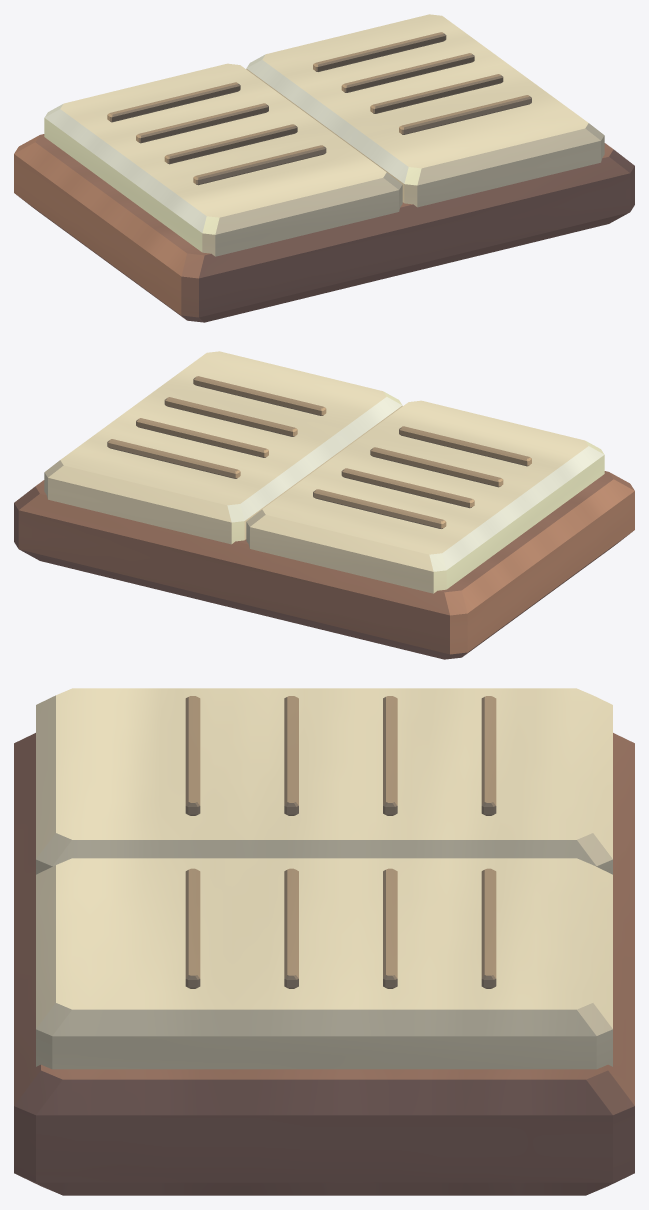
Rendered from resident_notebook.glb.
3 views of the same model, one above another, from view 1: azimuth 30°, elevation 25°; view 2: azimuth 150°, elevation 25°; view 3: azimuth 270°, elevation 25° (orthographic). The views are drawn at different scales.
Visible parts, largest first — view 1: Edda · Aufgeschlagenes Notizbuch; view 2: Edda · Aufgeschlagenes Notizbuch; view 3: Edda · Aufgeschlagenes Notizbuch.
Boxes of the visible parts, x1=… form: Edda · Aufgeschlagenes Notizbuch: x1=14, y1=14, x2=634, y2=322; Edda · Aufgeschlagenes Notizbuch: x1=14, y1=351, x2=634, y2=659; Edda · Aufgeschlagenes Notizbuch: x1=14, y1=688, x2=634, y2=1195.
Size of the model in its own units: 0.247 by 0.0545 by 0.17.
1 material, 1 textured.
